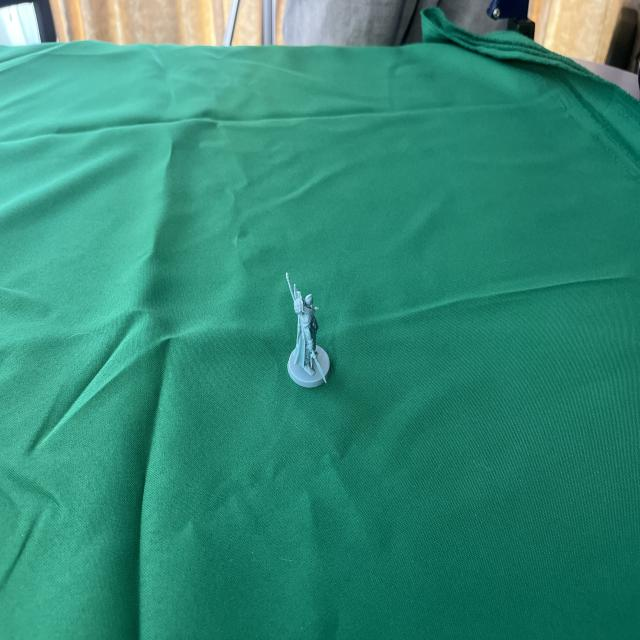isis_follower: (281, 266, 341, 392)
